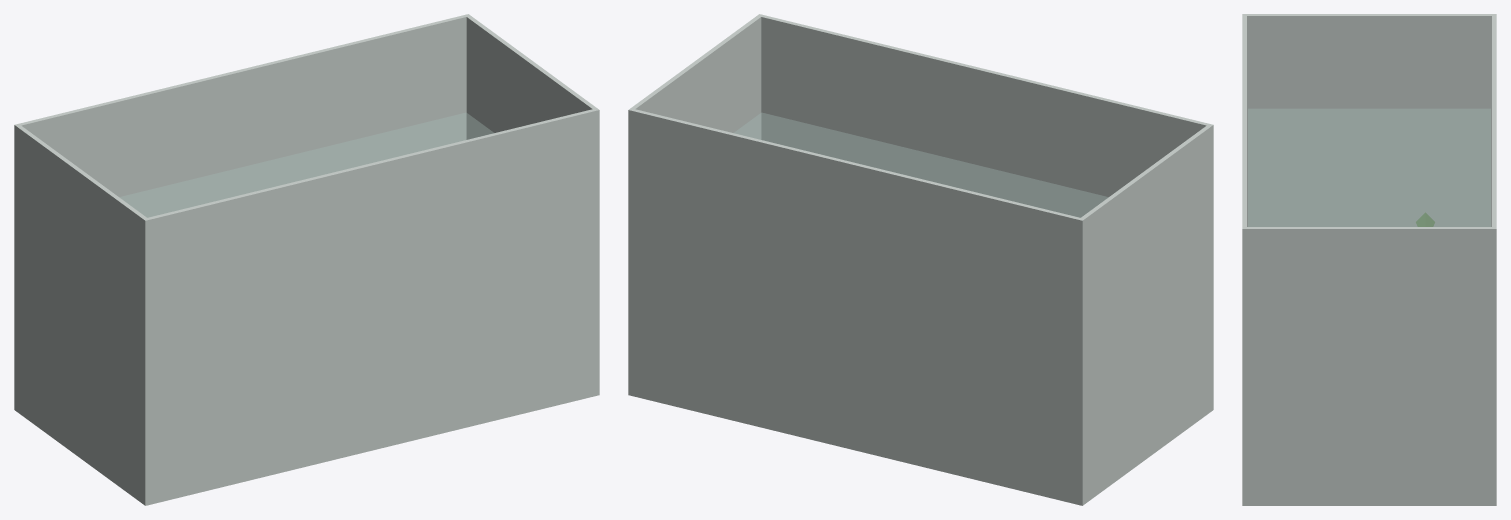
Rendered from aquarium-rectangle.glb.
3 views of the same model, side by side, from view 1: azimuth 30°, elevation 25°; view 2: azimuth 150°, elevation 25°; view 3: azimuth 270°, elevation 25° (orthographic). The views are drawn at different scales.
Parts seen in each view (by area): view 1: aquarium-rectangle/frontback-glass--1, aquarium-rectangle/frontback-glass-1, aquarium-rectangle/end-glass--1, aquarium-rectangle/water-volume, aquarium-rectangle/end-glass-1, aquarium-rectangle/real-glass-bottom; view 2: aquarium-rectangle/frontback-glass-1, aquarium-rectangle/frontback-glass--1, aquarium-rectangle/end-glass--1, aquarium-rectangle/water-volume, aquarium-rectangle/end-glass-1, aquarium-rectangle/real-glass-bottom; view 3: aquarium-rectangle/end-glass-1, aquarium-rectangle/end-glass--1, aquarium-rectangle/water-volume, aquarium-rectangle/frontback-glass-1, aquarium-rectangle/frontback-glass--1, aquarium-rectangle/real-glass-bottom.
Boxes of the visible parts, x1,y1,x2,y2 form: aquarium-rectangle/frontback-glass--1: (143,108,599,505); aquarium-rectangle/frontback-glass-1: (14,14,470,405); aquarium-rectangle/end-glass--1: (17,125,146,497); aquarium-rectangle/water-volume: (119,112,493,217); aquarium-rectangle/end-glass-1: (466,16,596,139); aquarium-rectangle/real-glass-bottom: (14,389,599,505); aquarium-rectangle/frontback-glass-1: (628,108,1084,505); aquarium-rectangle/frontback-glass--1: (757,14,1213,405); aquarium-rectangle/end-glass--1: (1081,125,1210,503); aquarium-rectangle/water-volume: (734,112,1108,217); aquarium-rectangle/end-glass-1: (631,16,761,139); aquarium-rectangle/real-glass-bottom: (628,389,1213,505); aquarium-rectangle/end-glass-1: (1247,227,1491,505); aquarium-rectangle/end-glass--1: (1247,14,1491,226); aquarium-rectangle/water-volume: (1248,108,1490,226); aquarium-rectangle/frontback-glass-1: (1492,14,1496,505); aquarium-rectangle/frontback-glass--1: (1242,14,1246,505); aquarium-rectangle/real-glass-bottom: (1242,500,1496,505).
Bounding box in the file's own units: 0.625 × 0.375 × 0.3125.
Materials: 7 (5 with a texture image).
